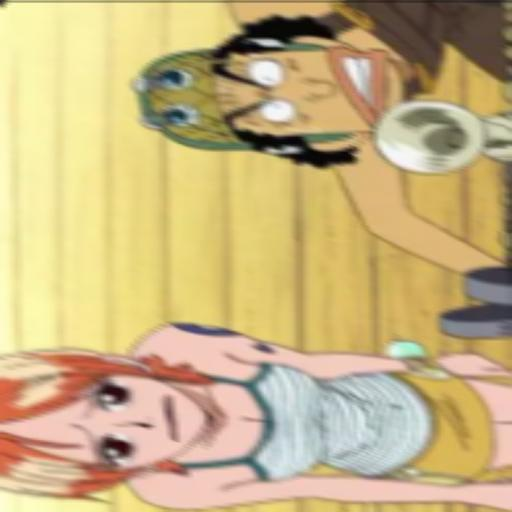Nami: (0, 319, 512, 512)
Usopp: (127, 0, 512, 291)
